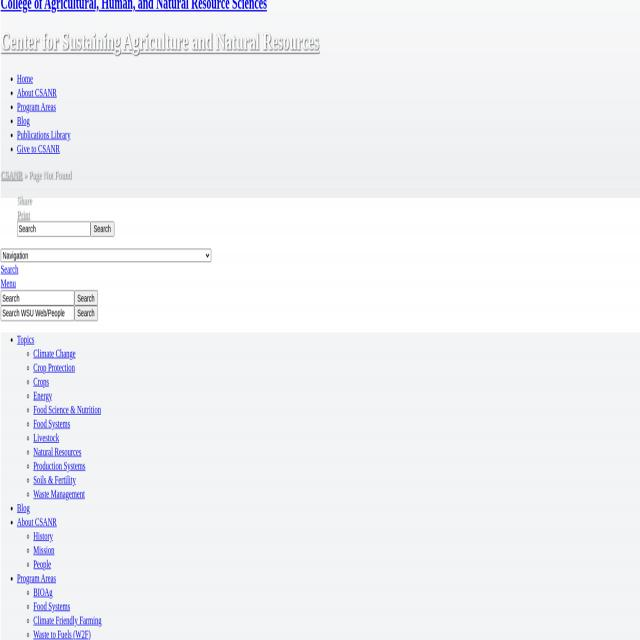button: (0, 29, 318, 55), (73, 305, 97, 321), (90, 221, 113, 237), (73, 291, 97, 306)
field: (0, 248, 210, 262), (16, 221, 90, 237), (0, 305, 74, 321), (0, 291, 74, 306)
